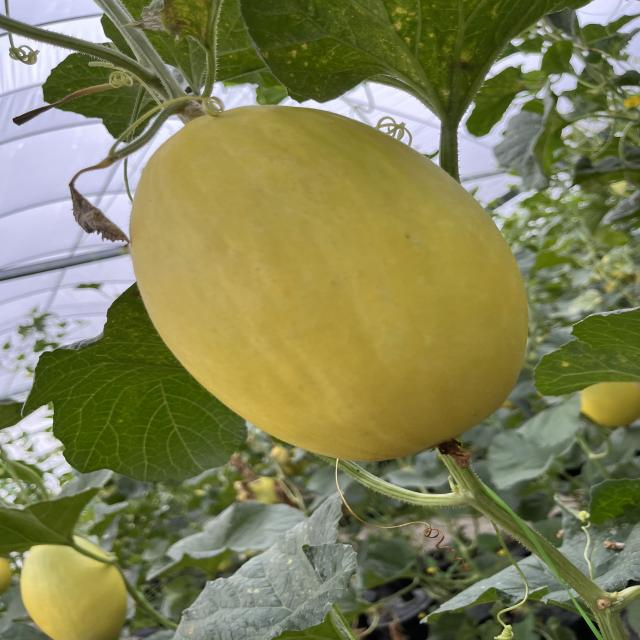bacterial wilt: (65, 177, 131, 249), (122, 0, 221, 46)
downy mildew: (250, 0, 557, 121), (158, 494, 368, 640), (532, 302, 640, 427)
healthy: (42, 49, 163, 142)
